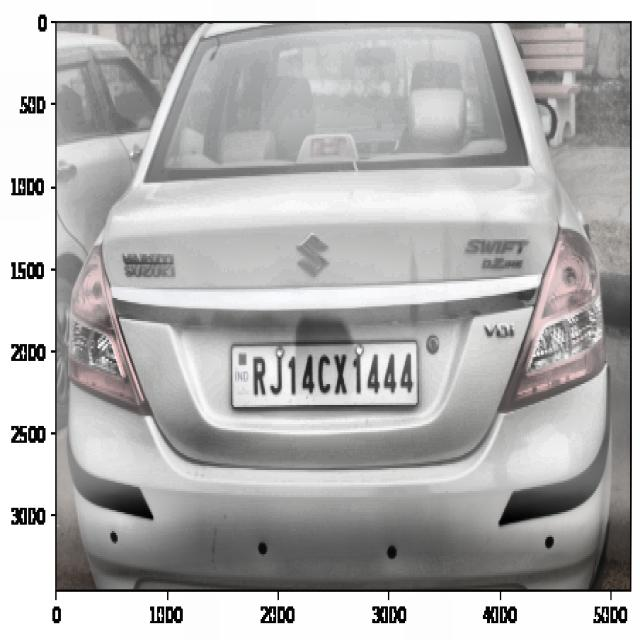license_plate: (242, 343, 419, 410)
